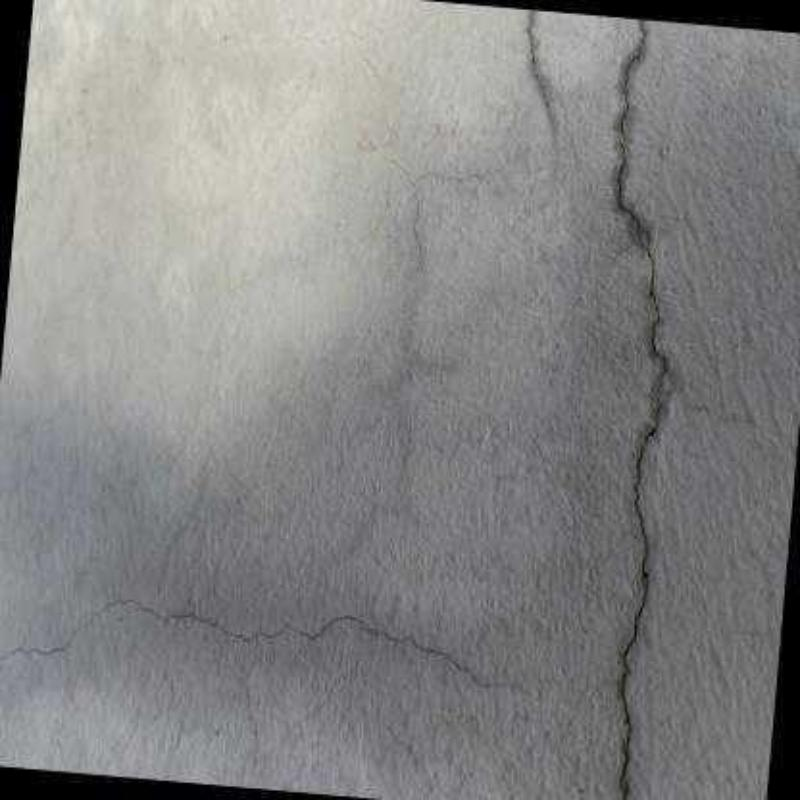pothole: (0, 598, 488, 689), (621, 230, 666, 800), (618, 20, 646, 231), (528, 10, 535, 69)
